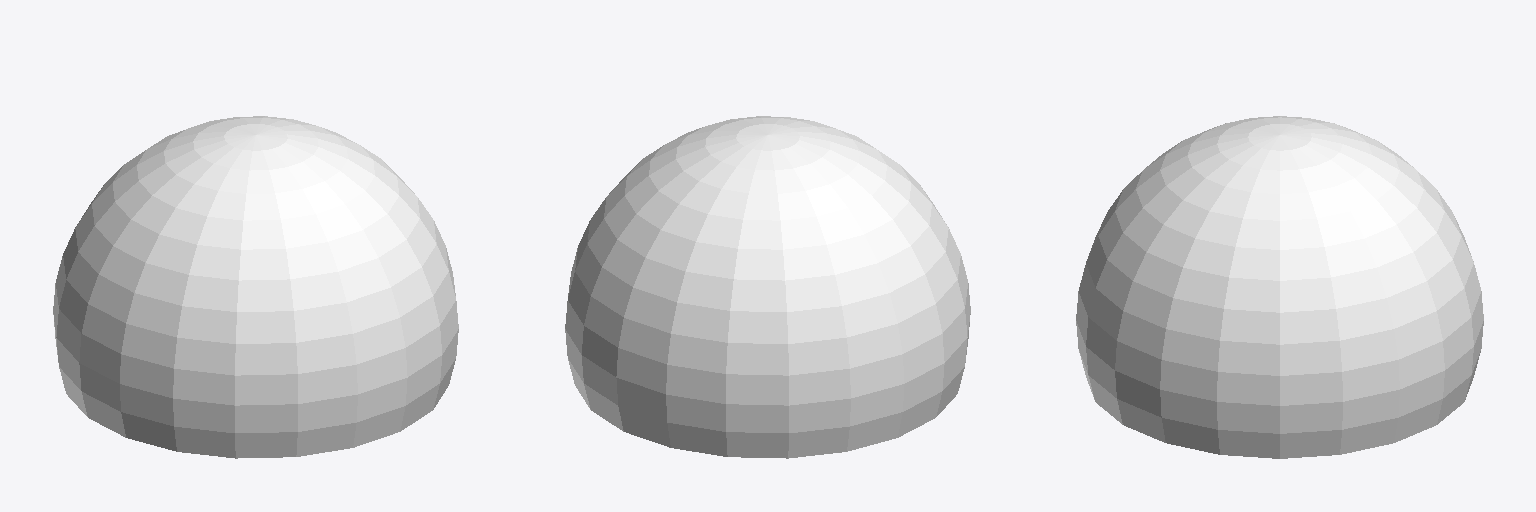
Rendered from Dome.obj.
3 views of the same model, side by side, from view 1: azimuth 30°, elevation 25°; view 2: azimuth 150°, elevation 25°; view 3: azimuth 270°, elevation 25° (orthographic).
Visible parts, largest first — view 1: Dome; view 2: Dome; view 3: Dome.
Part boxes in pixels (x1,y1,x2,y2): Dome: (53,116,458,458); Dome: (565,116,970,458); Dome: (1076,116,1483,458).
Bounding box in the file's own units: 76.81 × 50.27 × 76.81.